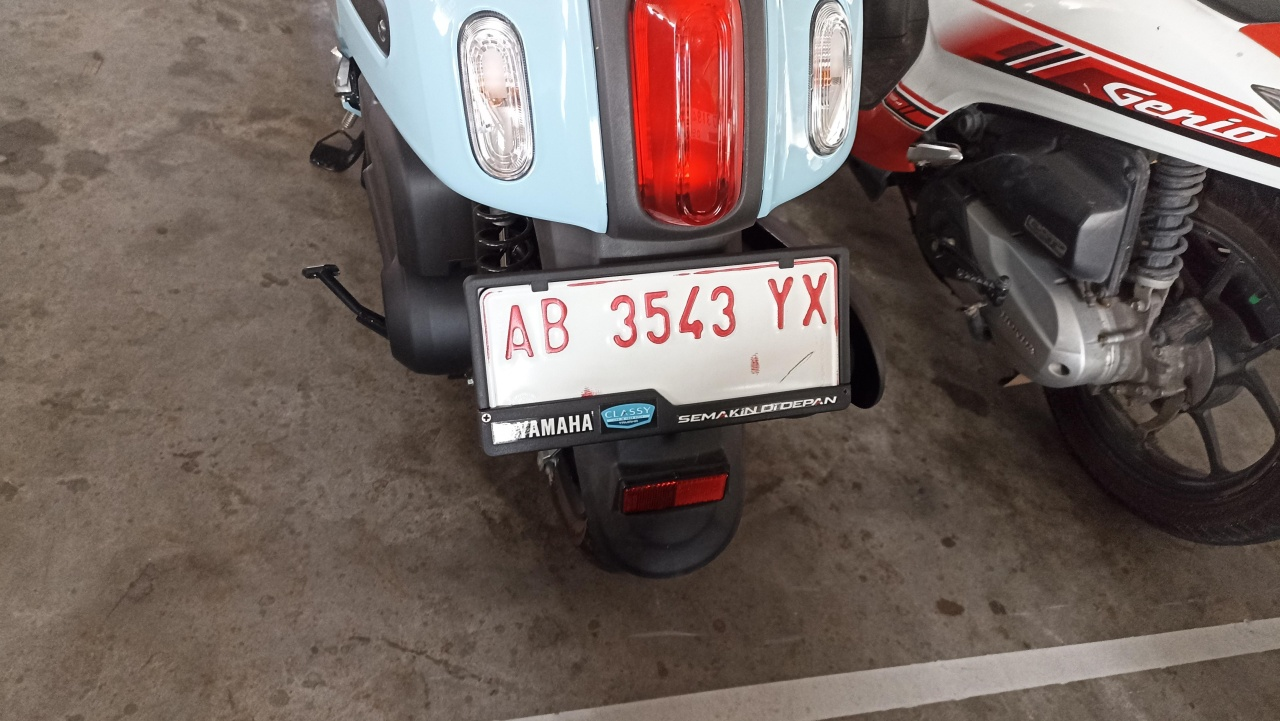plate: (477, 251, 848, 451)
